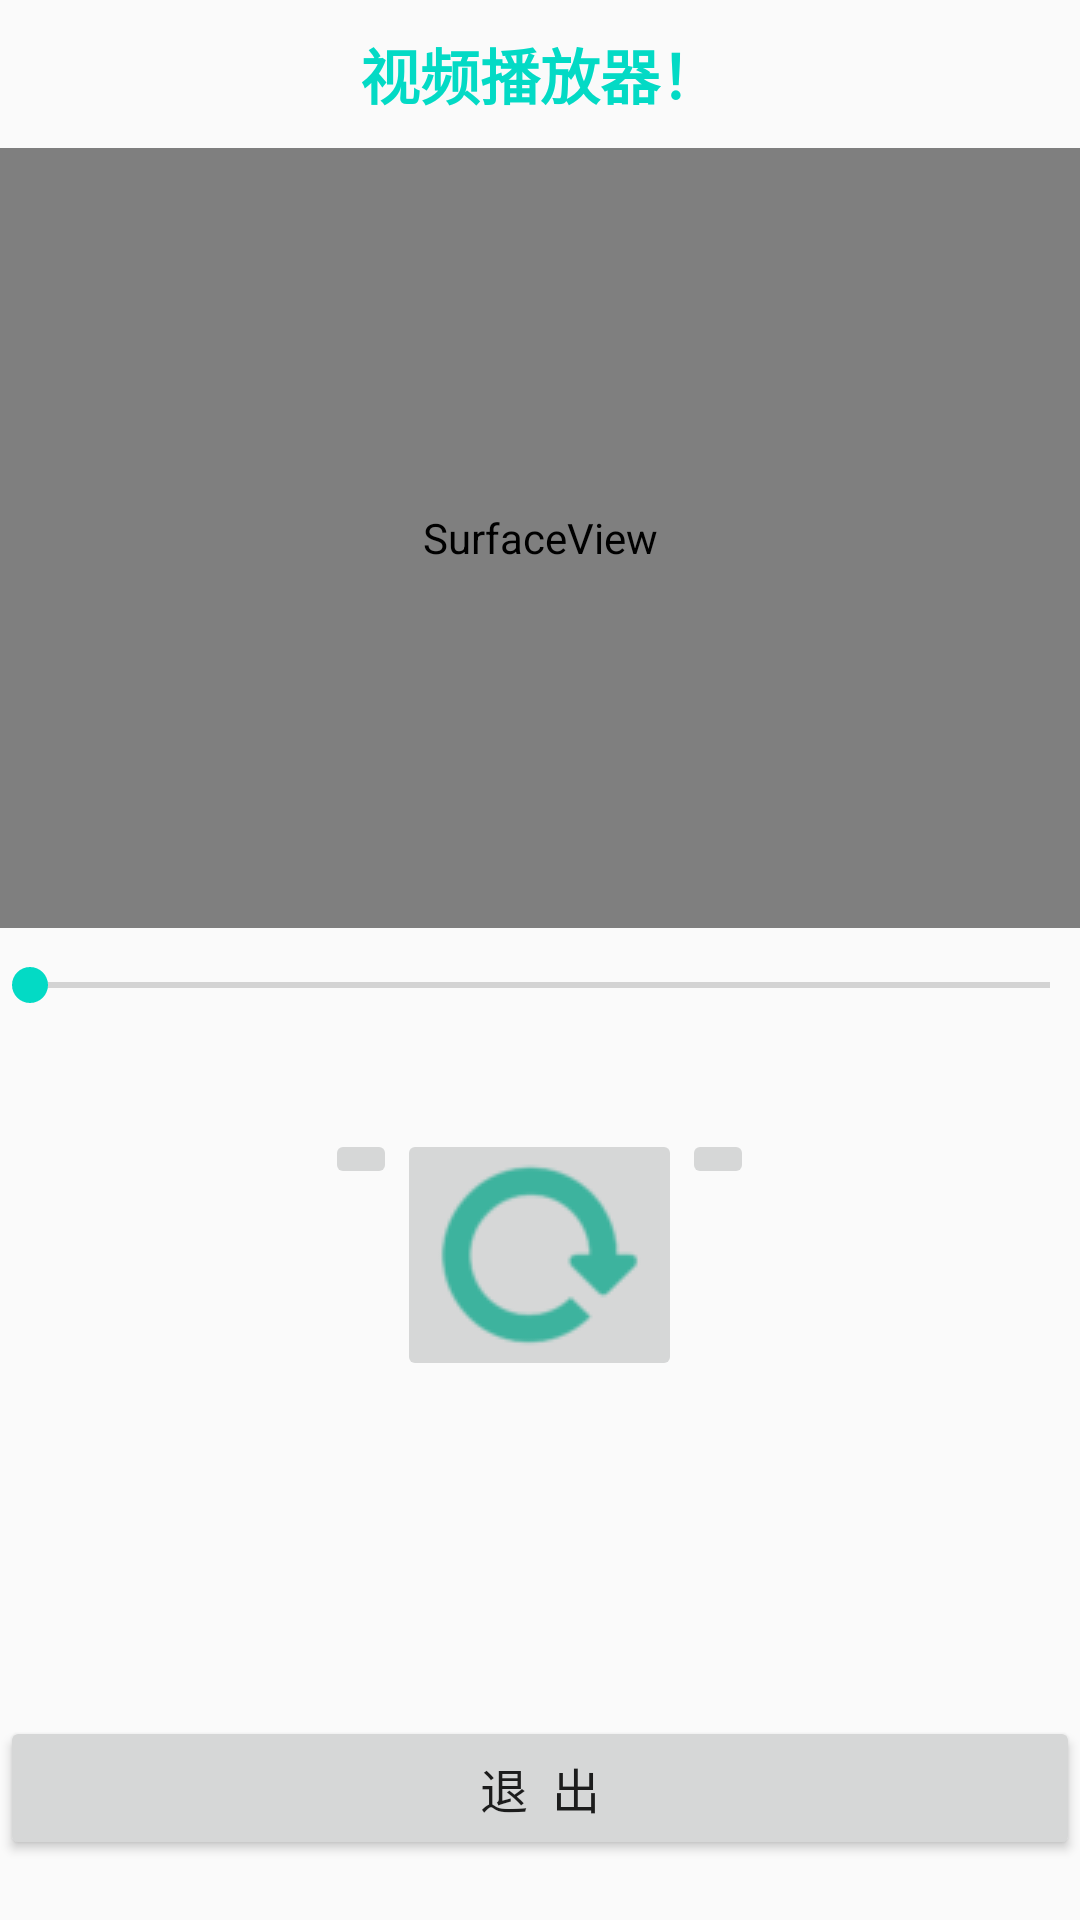

Icons on this 1080w x 1920h Android screen, each with its box as (x1, y1, x2, y2):
replay: (409, 1147, 670, 1363)
